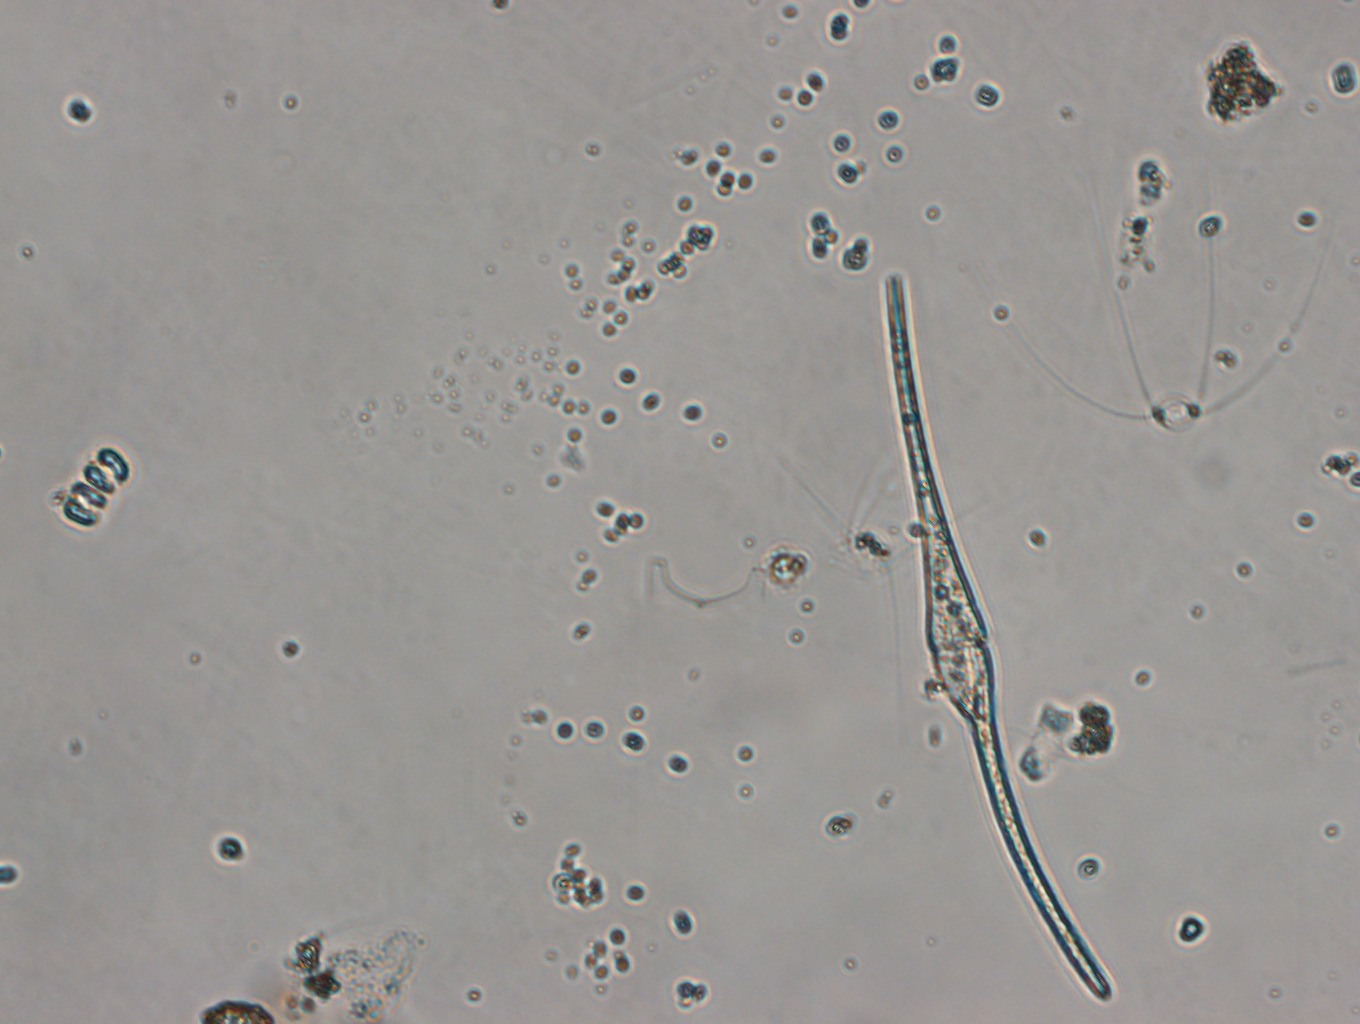ceratium fusus: (878, 276, 1116, 1007)
chaetoceros: (1008, 207, 1334, 431)
skeletonema: (54, 443, 134, 532)
